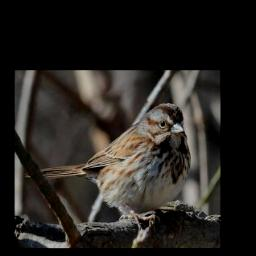Sparrow: (23, 101, 191, 231)
